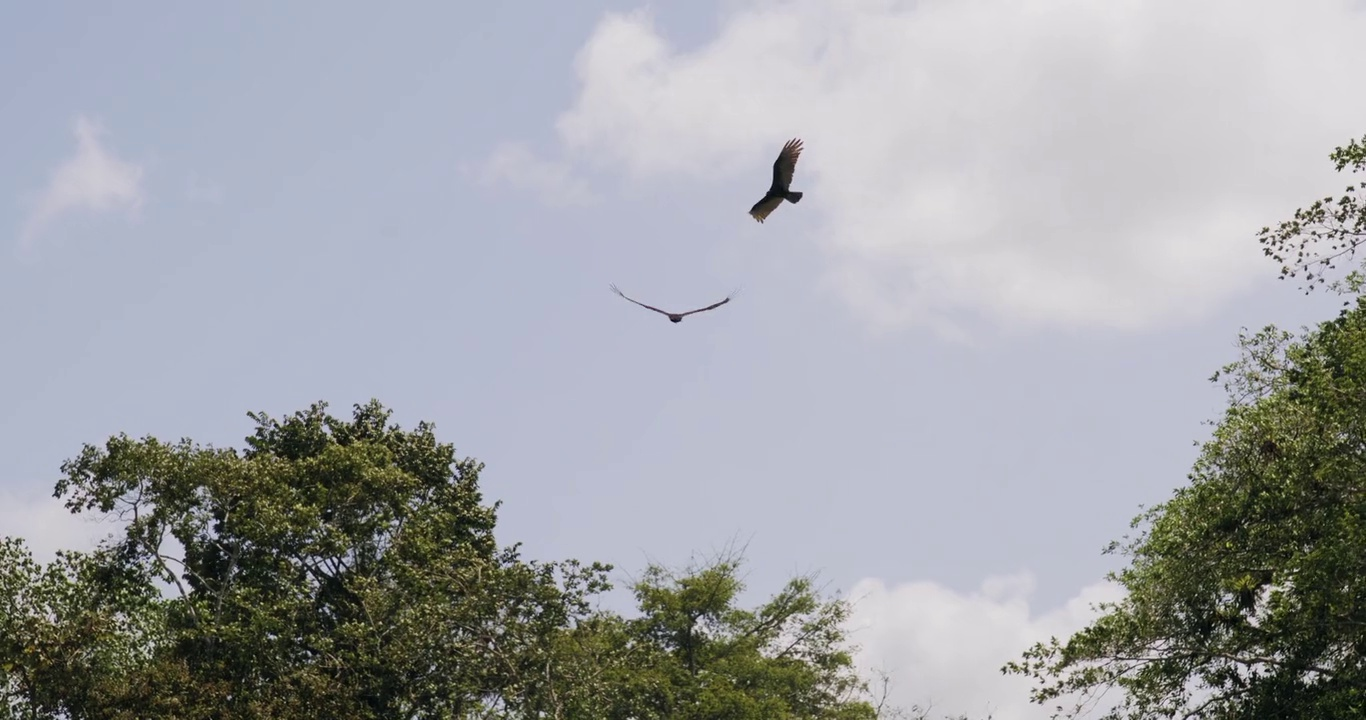bird: (609, 281, 731, 323), (745, 141, 803, 227)
